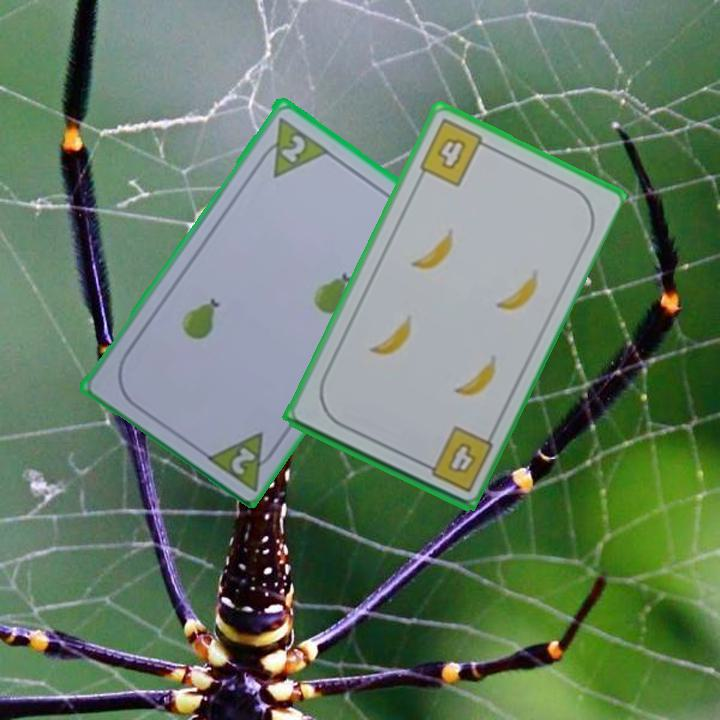2p: (201, 427, 283, 493), (252, 112, 331, 180)
4b: (415, 115, 494, 190), (415, 422, 496, 495)
